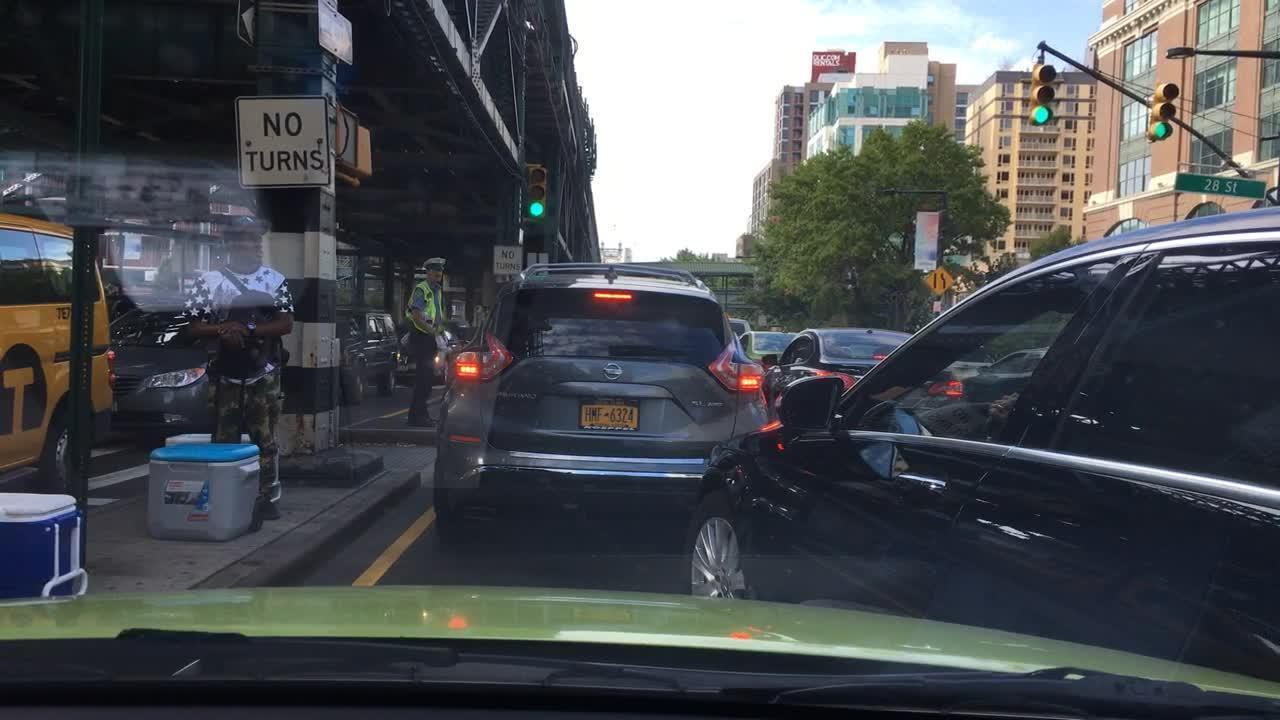Nissan: (598, 353, 629, 384)
